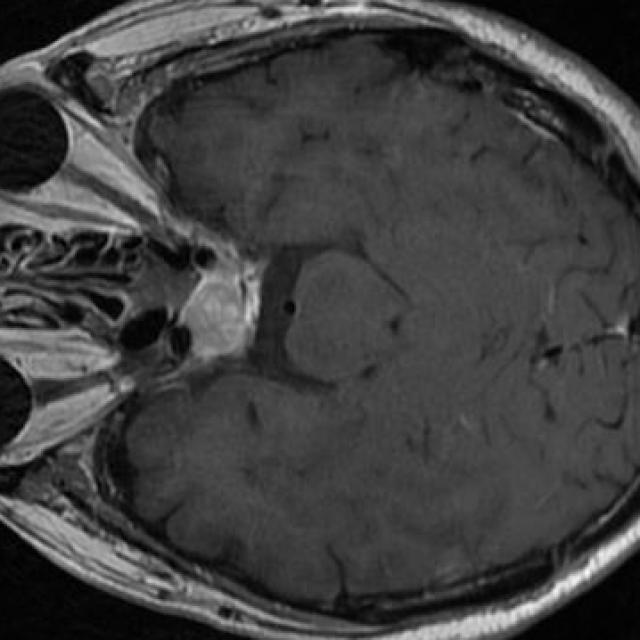pituitary: (184, 271, 248, 358)
